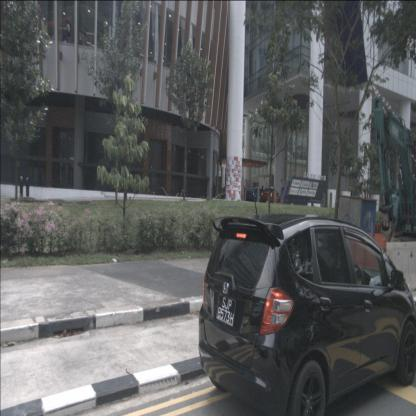human-pedestrian-adult: (261, 184, 264, 201)
movable_object-barrier: (340, 233, 386, 275), (385, 242, 416, 294)
movable_object-trafficcone: (376, 223, 379, 235)
vehicle-car: (198, 213, 416, 416), (245, 188, 266, 204), (261, 188, 281, 203)
